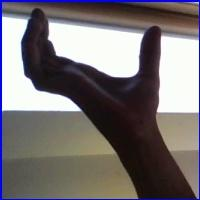space: (19, 3, 176, 134)
